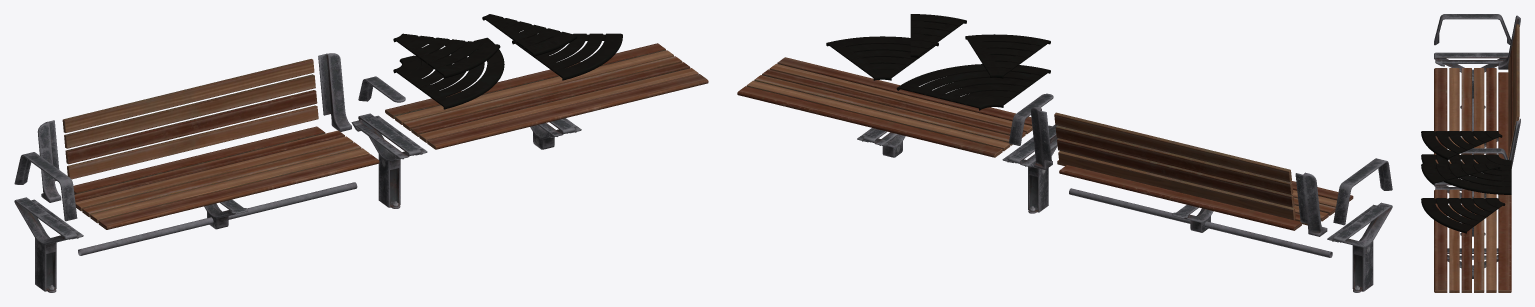
Rendered from modular_street_seating.glb.
The picture shows the model from 3 angles, left to right: view 1: azimuth 30°, elevation 25°; view 2: azimuth 150°, elevation 25°; view 3: azimuth 270°, elevation 25°; orthographic projection. The views are drawn at different scales.
Parts seen in each view (by area): view 1: seat_back, seat, seat_bench, connector_90, legs_double, connector_45, legs_single, connector_60, crossbar, connector_30, back_support_l, arm_rest_01 (+4 smaller); view 2: seat_bench, seat_back, connector_90, seat, connector_60, legs_single, connector_45, crossbar, legs_double, connector_30, arm_rest_01, back_support_r (+4 smaller); view 3: seat_bench, seat, connector_90, connector_60, connector_45, seat_back, connector_30, legs_single, arm_rest_01, arm_rest_02, back_support_r, legs_double (+3 smaller).
Part boxes in pixels (left/top/right/bottom): seat_back: left=62, top=59, right=318, bottom=179; seat: left=73, top=126, right=379, bottom=229; seat_bench: left=385, top=43, right=708, bottom=149; connector_90: left=393, top=37, right=504, bottom=109; legs_double: left=351, top=113, right=427, bottom=208; connector_45: left=393, top=33, right=500, bottom=78; legs_single: left=14, top=197, right=83, bottom=292; connector_60: left=512, top=33, right=622, bottom=80; crossbar: left=78, top=182, right=357, bottom=255; connector_30: left=482, top=14, right=577, bottom=56; back_support_l: left=318, top=53, right=351, bottom=131; arm_rest_01: left=14, top=152, right=77, bottom=221; seat_bench: left=737, top=57, right=1032, bottom=157; seat_back: left=1054, top=112, right=1295, bottom=220; connector_90: left=896, top=64, right=1050, bottom=110; seat: left=1057, top=160, right=1353, bottom=230; connector_60: left=826, top=36, right=938, bottom=80; legs_single: left=1327, top=202, right=1392, bottom=292; connector_45: left=965, top=34, right=1050, bottom=78; crossbar: left=1069, top=188, right=1332, bottom=257; legs_double: left=1002, top=124, right=1058, bottom=213; connector_30: left=910, top=14, right=966, bottom=57; arm_rest_01: left=1333, top=158, right=1392, bottom=225; back_support_r: left=1295, top=172, right=1327, bottom=236; seat_bench: left=1434, top=189, right=1511, bottom=292; seat: left=1434, top=68, right=1508, bottom=163; connector_90: left=1421, top=154, right=1511, bottom=194; connector_60: left=1421, top=198, right=1505, bottom=233; connector_45: left=1421, top=131, right=1502, bottom=160; seat_back: left=1508, top=24, right=1519, bottom=157; connector_30: left=1421, top=163, right=1500, bottom=185; legs_single: left=1434, top=52, right=1508, bottom=108; arm_rest_01: left=1434, top=14, right=1511, bottom=45; arm_rest_02: left=1461, top=148, right=1508, bottom=159; back_support_r: left=1498, top=15, right=1520, bottom=69; legs_double: left=1434, top=181, right=1486, bottom=236.
Bounding box in the file's own units: 4.34 × 0.95 × 0.7704.
Materials: 4 (4 with a texture image).
